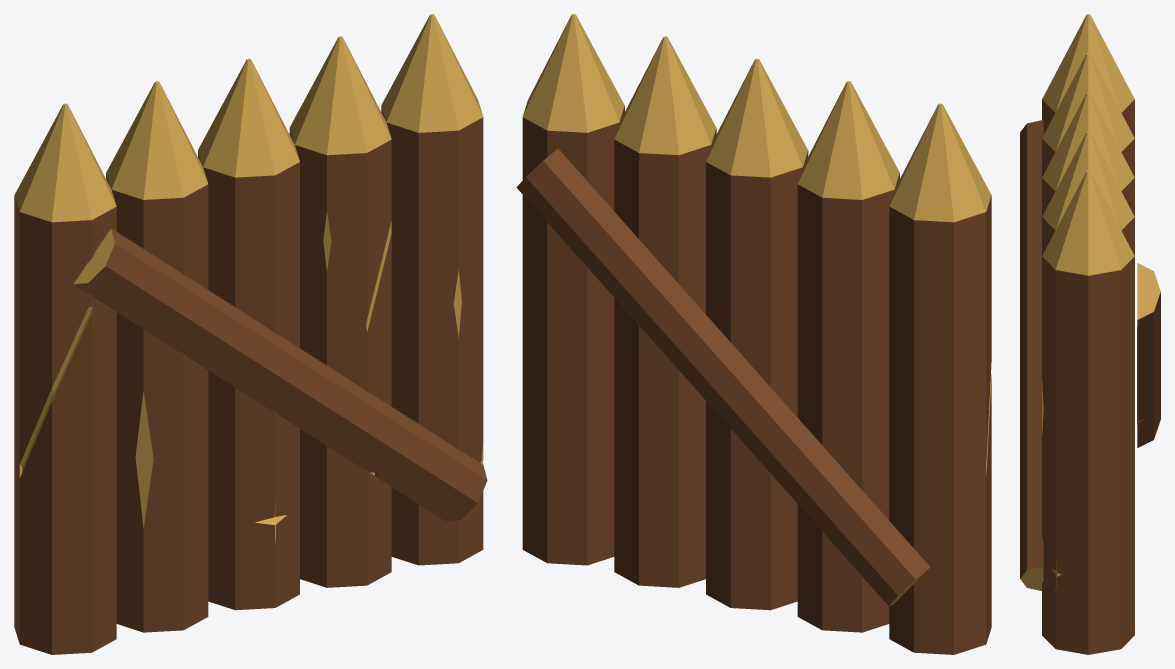
Rendered from Logwall.fbx.
3 renders of one model, left to right at view 1: azimuth 30°, elevation 25°; view 2: azimuth 150°, elevation 25°; view 3: azimuth 270°, elevation 25°, orthographic. The views are drawn at different scales.
Parts seen in each view (by area): view 1: Cylinder; view 2: Cylinder; view 3: Cylinder.
Part boxes in pixels (box(x1,y1,x2,y2)): Cylinder: box(14, 14, 487, 654); Cylinder: box(516, 14, 991, 654); Cylinder: box(1020, 14, 1160, 654).
Size of the model in its own units: 347 by 383 by 105.
